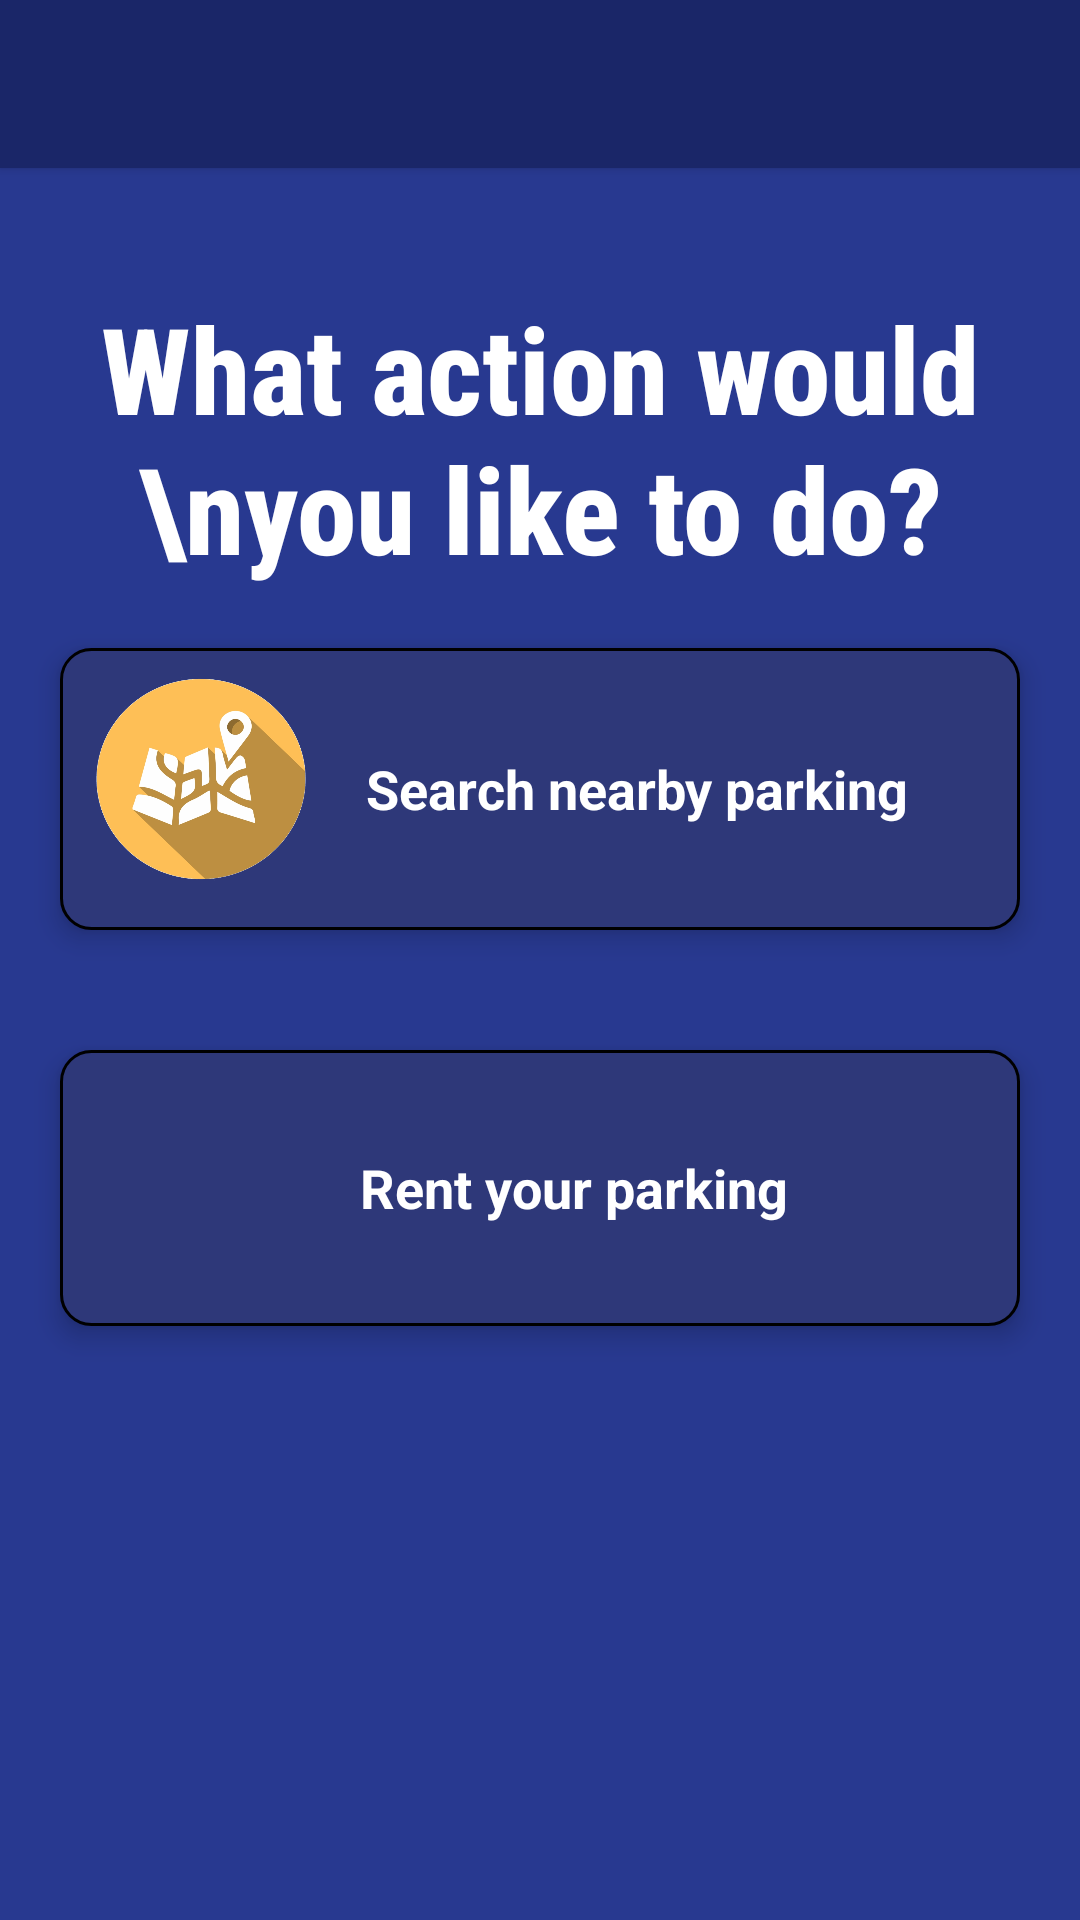

Point at icon controls on the screen. Image size 1080px×1920px, points as (x,y).
mapicon: (201,779)
